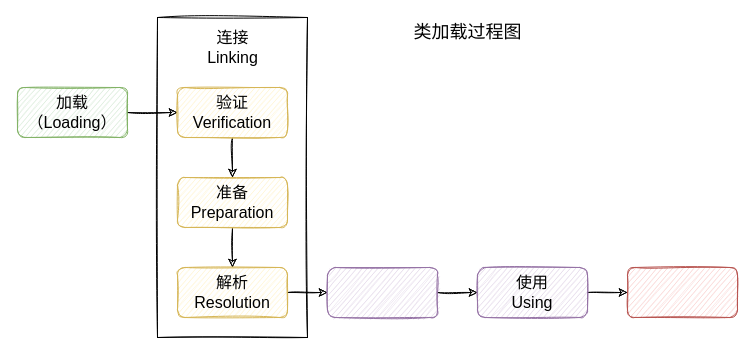
This 755x355 diagram has some shape labels left out. The shapes that lost their labels are listed below. From the top down, each one's centre as x and y in pixels, then its label:
At (382,292): "初始化 Initialzation".
At (682,292): "卸载 Unloading".
